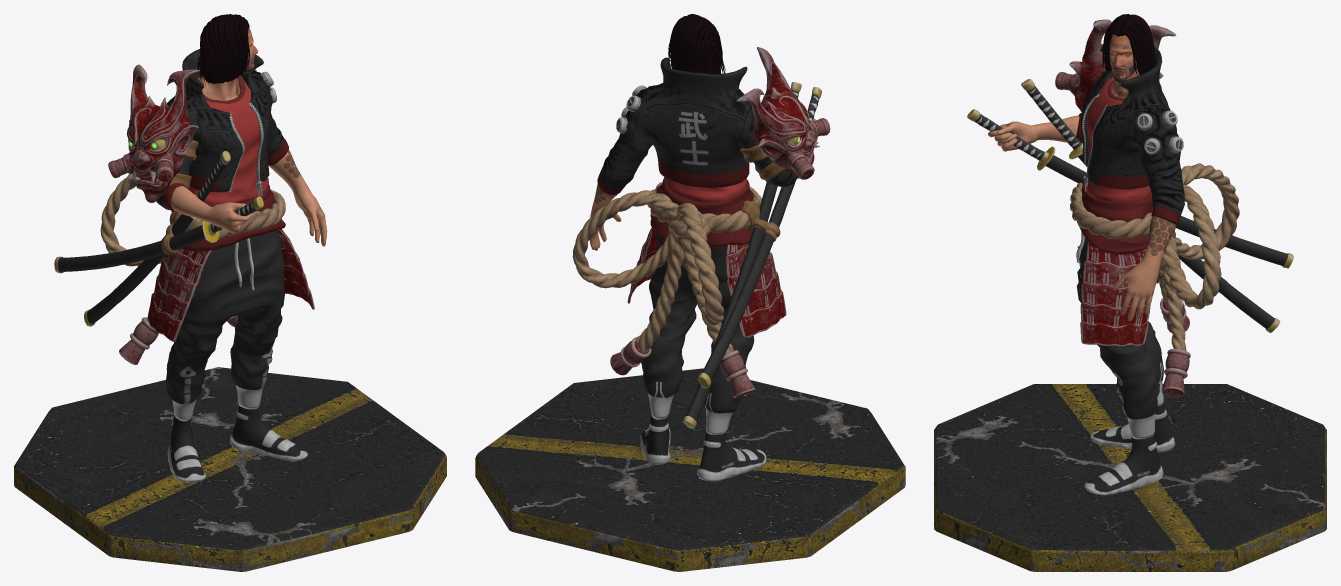
3 views of the same model, side by side, from view 1: azimuth 30°, elevation 25°; view 2: azimuth 150°, elevation 25°; view 3: azimuth 270°, elevation 25° (orthographic).
Parts seen in each view (by area): view 1: vetement3; view 2: vetement3; view 3: vetement3.
Boxes of the visible parts, x1,y1,x2,y2 form: vetement3: (14,14,446,571); vetement3: (475,14,905,571); vetement3: (934,14,1326,571).
Size of the model in its own units: 145 by 191 by 145.
6 materials, 6 textured.
